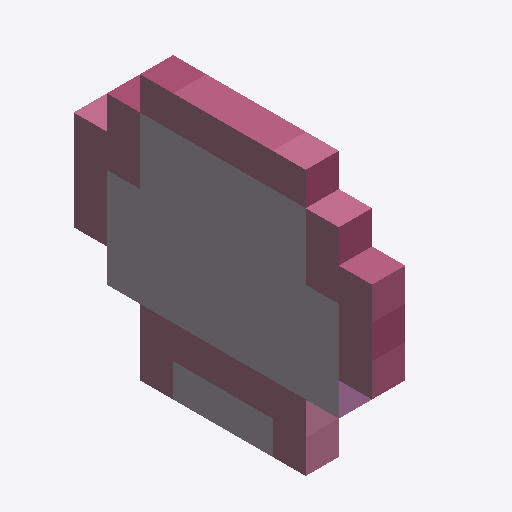
Isometric view (azimuth 45°, elevation 35.3°) of a Minecraft model made of 12 cuboids, textured from the same repository.
Parts seen in each view (by area): element 2, element 7, element 6, element 5, element 10, element 4, element 8, element 9.
Part boxes in pixels (left/top/right/bottom): element 2: left=140, top=151, right=305, bottom=398; element 7: left=140, top=304, right=338, bottom=475; element 6: left=140, top=55, right=338, bottom=207; element 5: left=107, top=75, right=371, bottom=264; element 10: left=339, top=247, right=404, bottom=398; element 4: left=306, top=247, right=371, bottom=417; element 8: left=107, top=132, right=139, bottom=303; element 9: left=74, top=94, right=106, bottom=245.
Bounding box in the file's own units: 2 × 8 × 9.